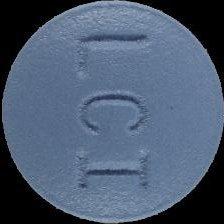0527-1789: (0, 0, 224, 224)
